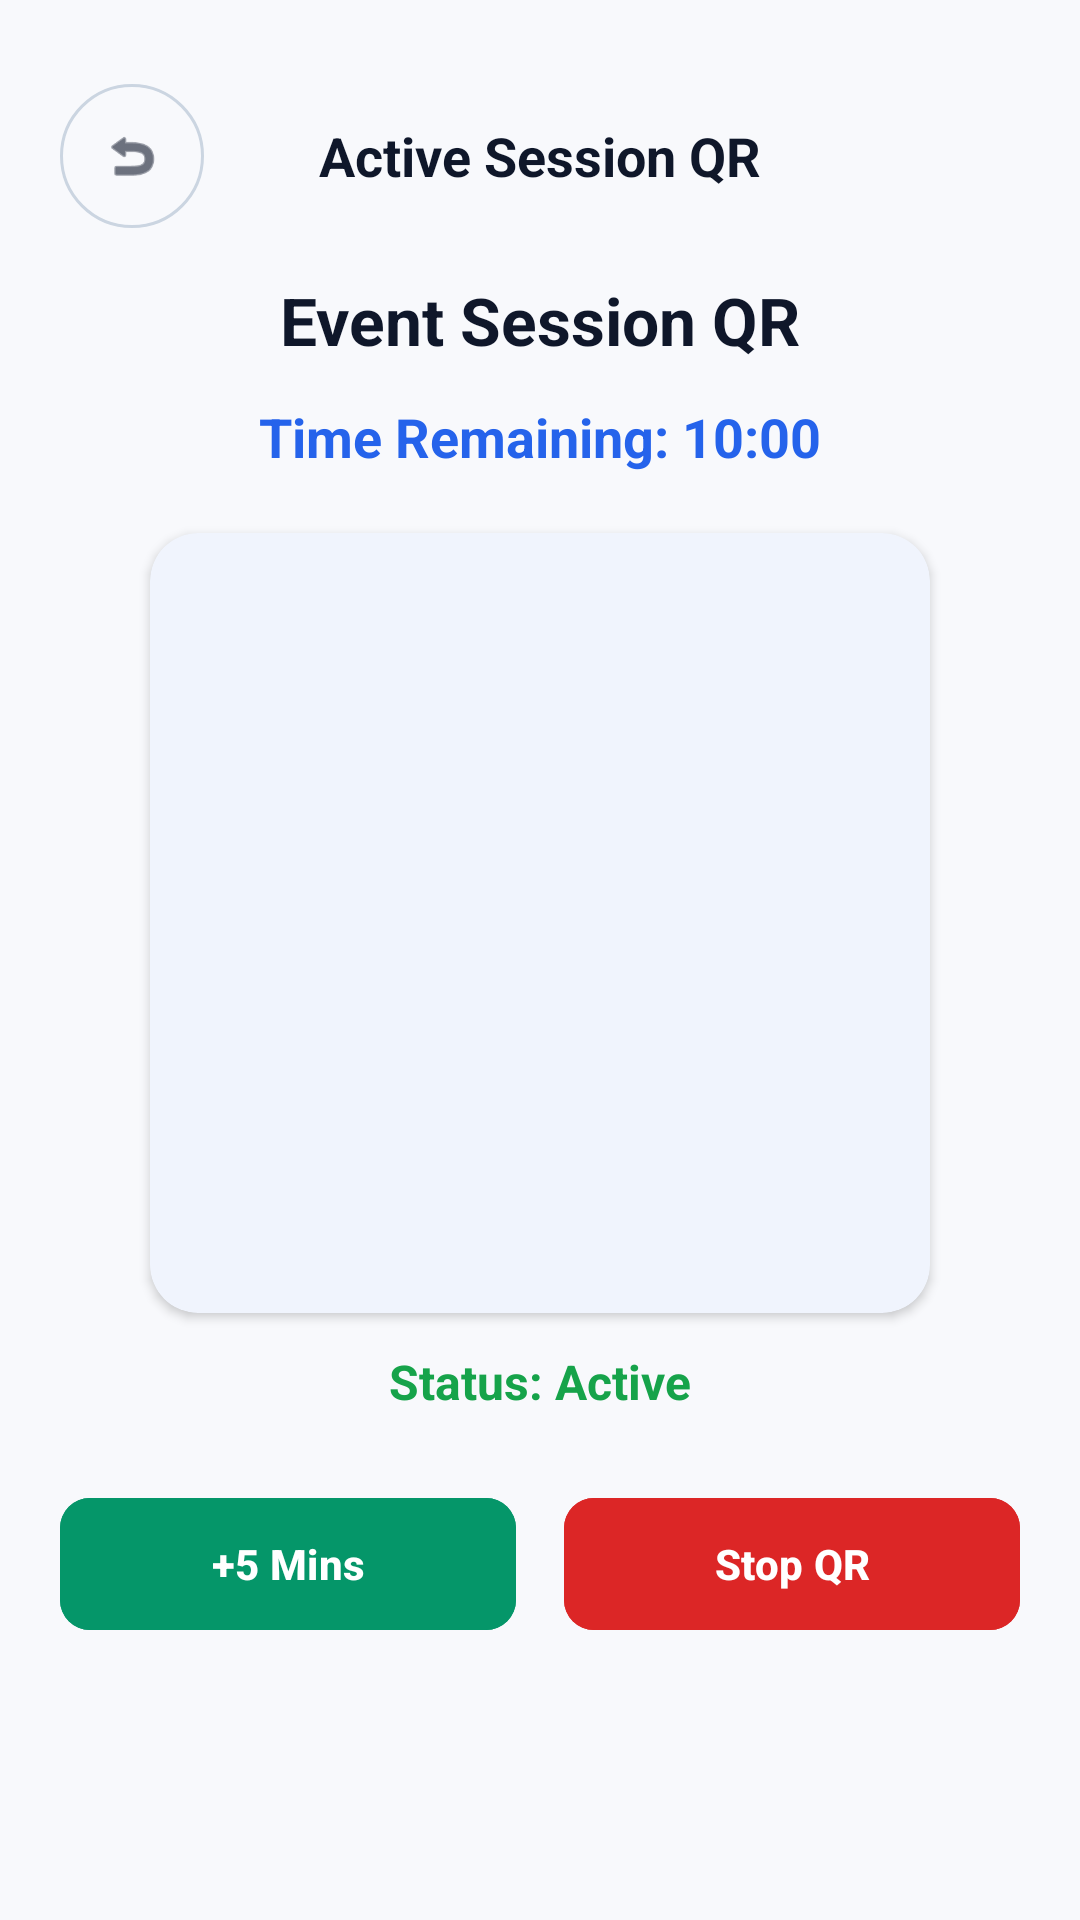

Named icons in this screenshot (1080*1920) and their centers, (x=x, y=y):
Back: (x=132, y=156)
